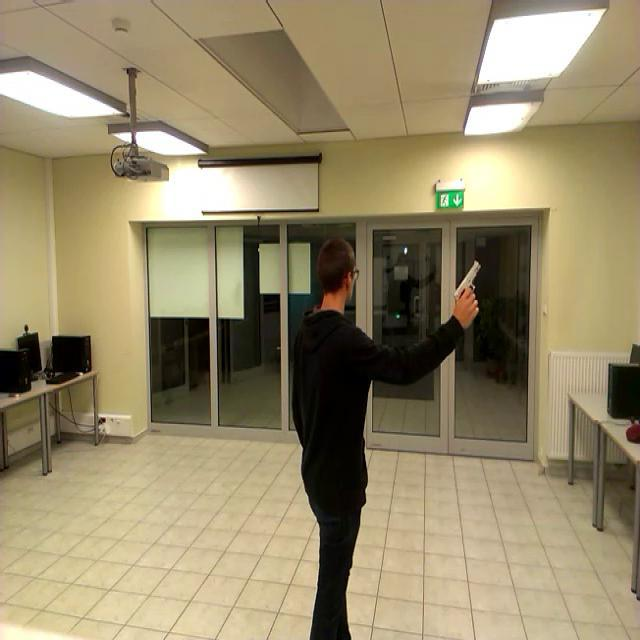Gun: (453, 259, 480, 313)
